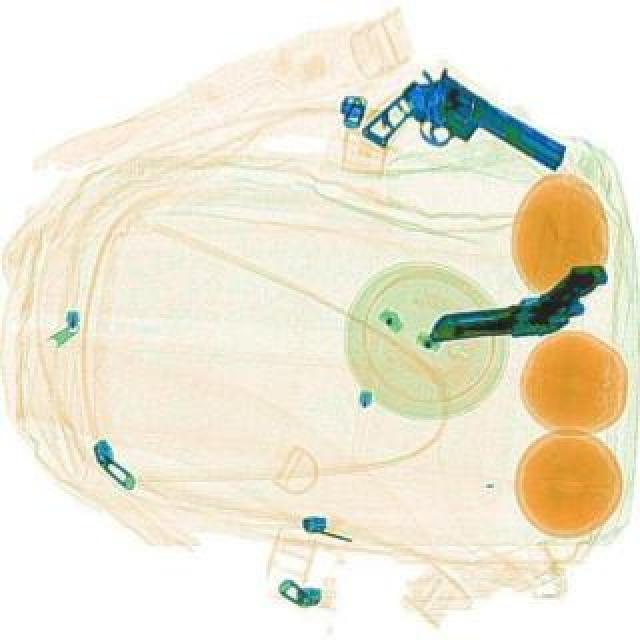gun: (358, 50, 574, 226), (428, 264, 608, 340)
